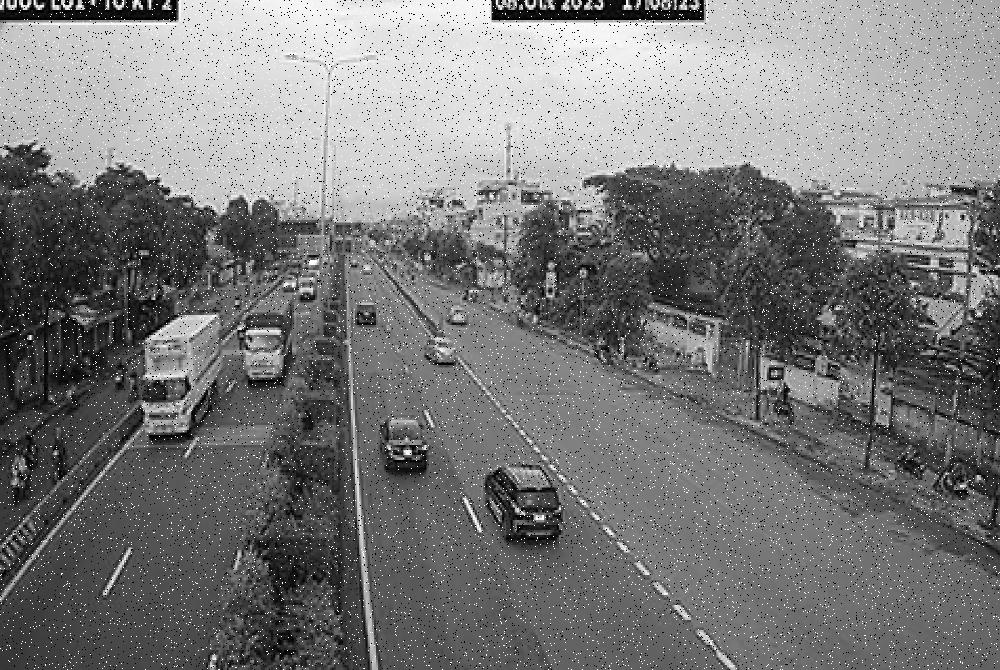car: (481, 466, 566, 546), (380, 414, 432, 474)
truck: (139, 316, 223, 437), (245, 299, 295, 387)
